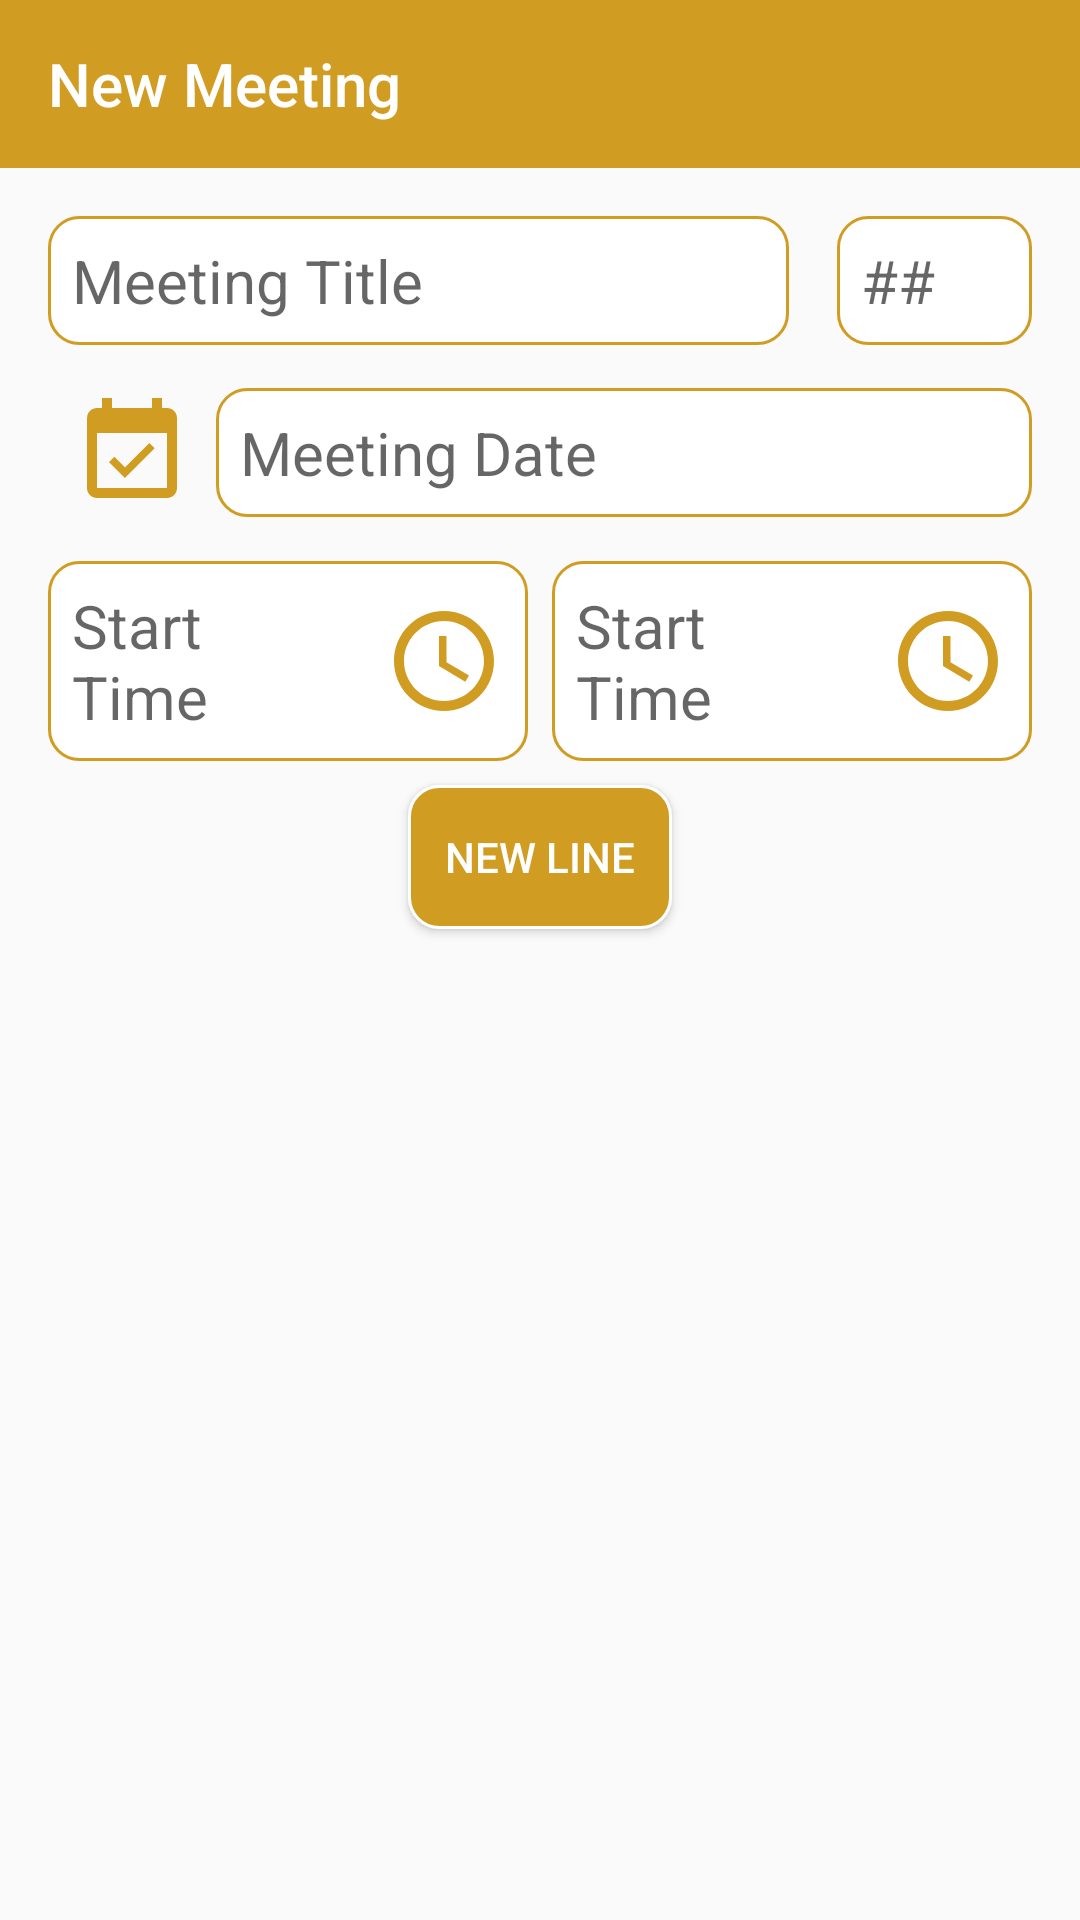

Icon click points for this 1080×1920 phone screenshot, format point (x, y):
event: point (132, 448)
